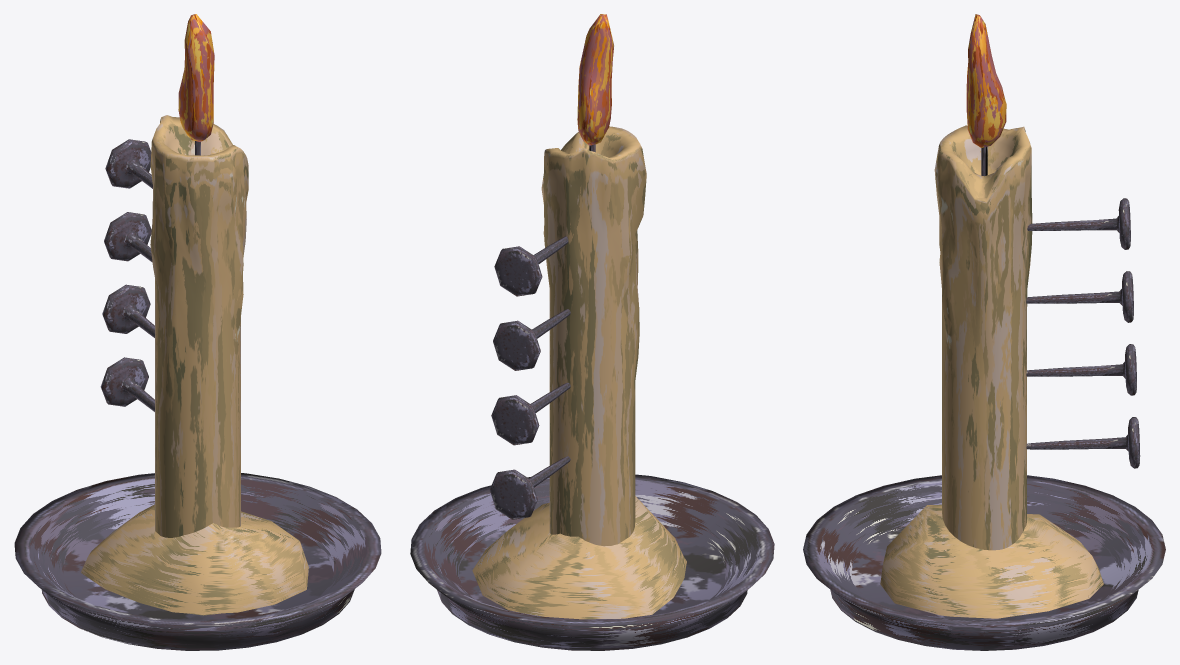
The model's file is Candle_BlendShapes.fbx.
3 renders of one model, left to right at view 1: azimuth 30°, elevation 25°; view 2: azimuth 150°, elevation 25°; view 3: azimuth 270°, elevation 25°, orthographic.
Visible parts, largest first — view 1: Candle, Nail (4).001, Nail (4).004, Nail (4).003, Nail (4).002; view 2: Candle, Nail (4).001, Nail (4).004, Nail (4).003, Nail (4).002; view 3: Candle, Nail (4).001, Nail (4).004, Nail (4).003, Nail (4).002.
Boxes of the visible parts, box(x1,y1,x2,y2) form: Candle: box(14, 14, 381, 650); Nail (4).001: box(100, 357, 154, 411); Nail (4).004: box(102, 284, 154, 337); Nail (4).003: box(104, 212, 152, 262); Nail (4).002: box(105, 139, 152, 188); Candle: box(410, 14, 774, 650); Nail (4).001: box(490, 456, 570, 519); Nail (4).004: box(491, 382, 570, 445); Nail (4).003: box(493, 309, 570, 370); Nail (4).002: box(494, 236, 568, 296); Candle: box(803, 14, 1165, 650); Nail (4).001: box(1026, 417, 1140, 468); Nail (4).004: box(1026, 344, 1136, 395); Nail (4).003: box(1026, 271, 1133, 322); Nail (4).002: box(1027, 198, 1130, 249).
Bounding box in the file's own units: 504 × 868 × 504.
4 materials, 4 textured.
